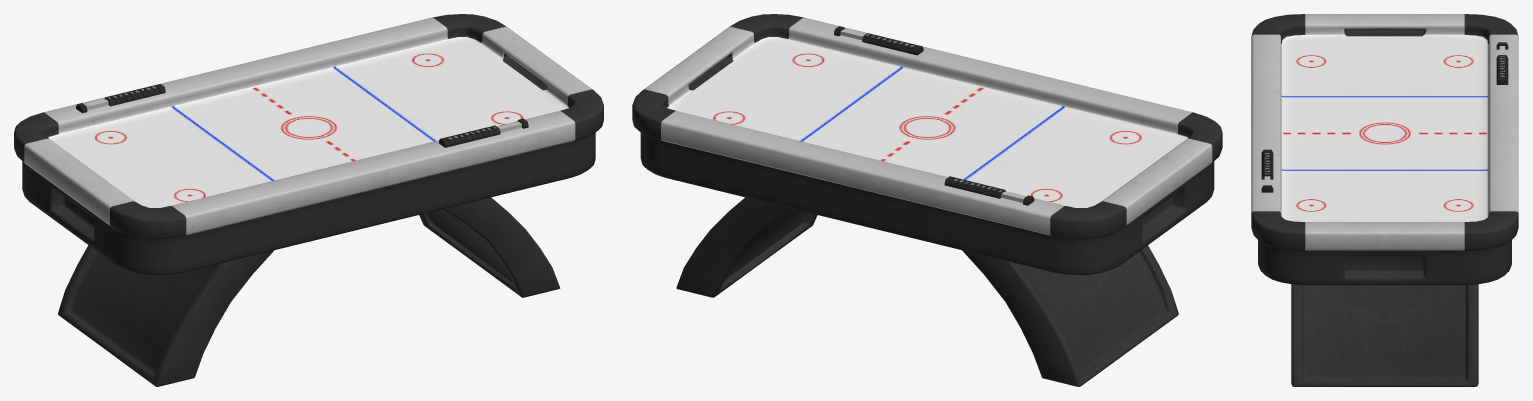
File: AirHockeyTable.obj
3 views of the same model, side by side, from view 1: azimuth 30°, elevation 25°; view 2: azimuth 150°, elevation 25°; view 3: azimuth 270°, elevation 25° (orthographic). The views are drawn at different scales.
Visible parts, largest first — view 1: Air_Hockey_Table_Sphere; view 2: Air_Hockey_Table_Sphere; view 3: Air_Hockey_Table_Sphere.
Boxes of the visible parts, left/top/right/bottom form: Air_Hockey_Table_Sphere: left=14, top=14, right=603, bottom=386; Air_Hockey_Table_Sphere: left=632, top=14, right=1222, bottom=386; Air_Hockey_Table_Sphere: left=1251, top=14, right=1518, bottom=386.
Size of the model in its own units: 2.18 by 0.8226 by 1.12.
